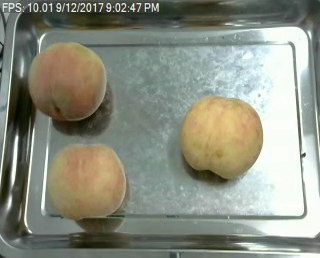Peach: (179, 95, 263, 180), (27, 41, 107, 123), (48, 143, 127, 220)
